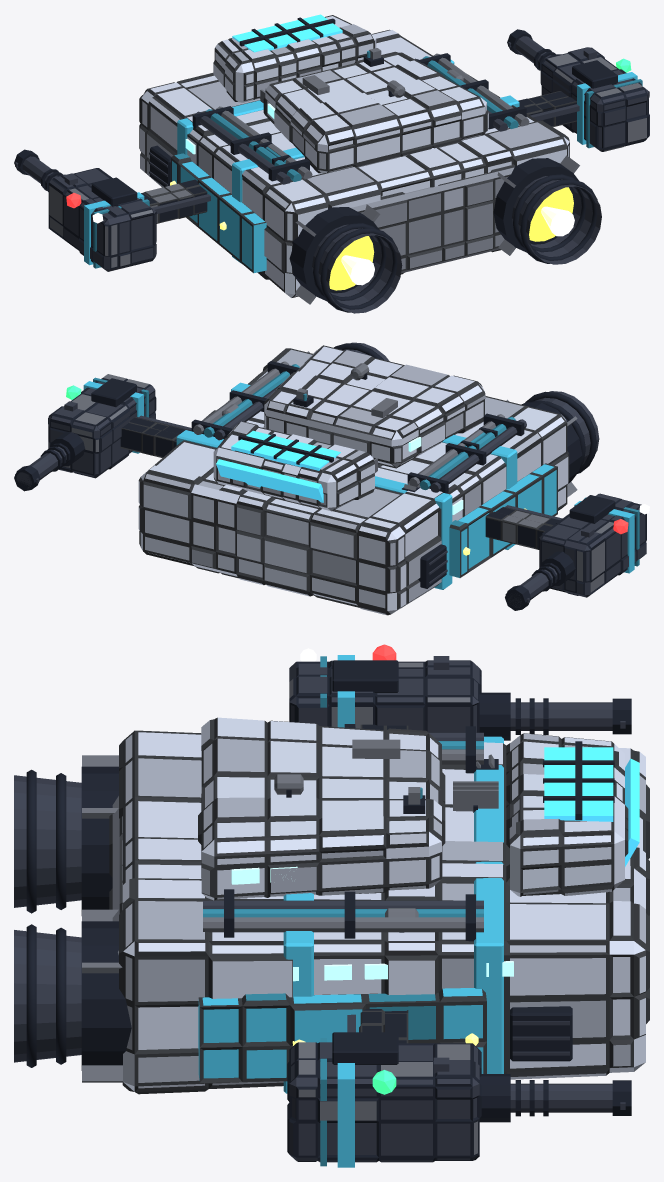
File: aegis.glb
The picture shows the model from 3 angles, top to bottom: view 1: azimuth 30°, elevation 25°; view 2: azimuth 150°, elevation 25°; view 3: azimuth 270°, elevation 25°; orthographic projection. The views are drawn at different scales.
Parts seen in each view (by area): view 1: aegis_mesh; view 2: aegis_mesh; view 3: aegis_mesh.
Part boxes in pixels (x1=…): aegis_mesh: x1=14, y1=14, x2=649, y2=313; aegis_mesh: x1=14, y1=342, x2=646, y2=615; aegis_mesh: x1=14, y1=644, x2=649, y2=1167.
Size of the model in its own units: 11.94 by 3 by 7.36.
